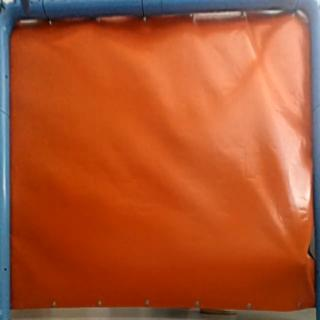Hit-hRxx: (296, 256, 314, 271)
